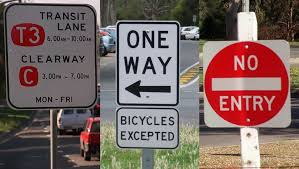doNotEnter: (201, 39, 293, 131)
oneWay: (115, 19, 181, 107)
